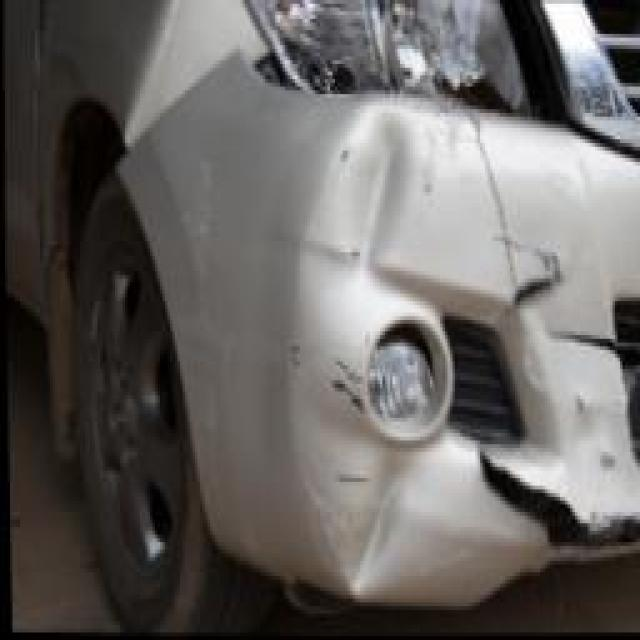Bumper: (178, 109, 635, 580)
